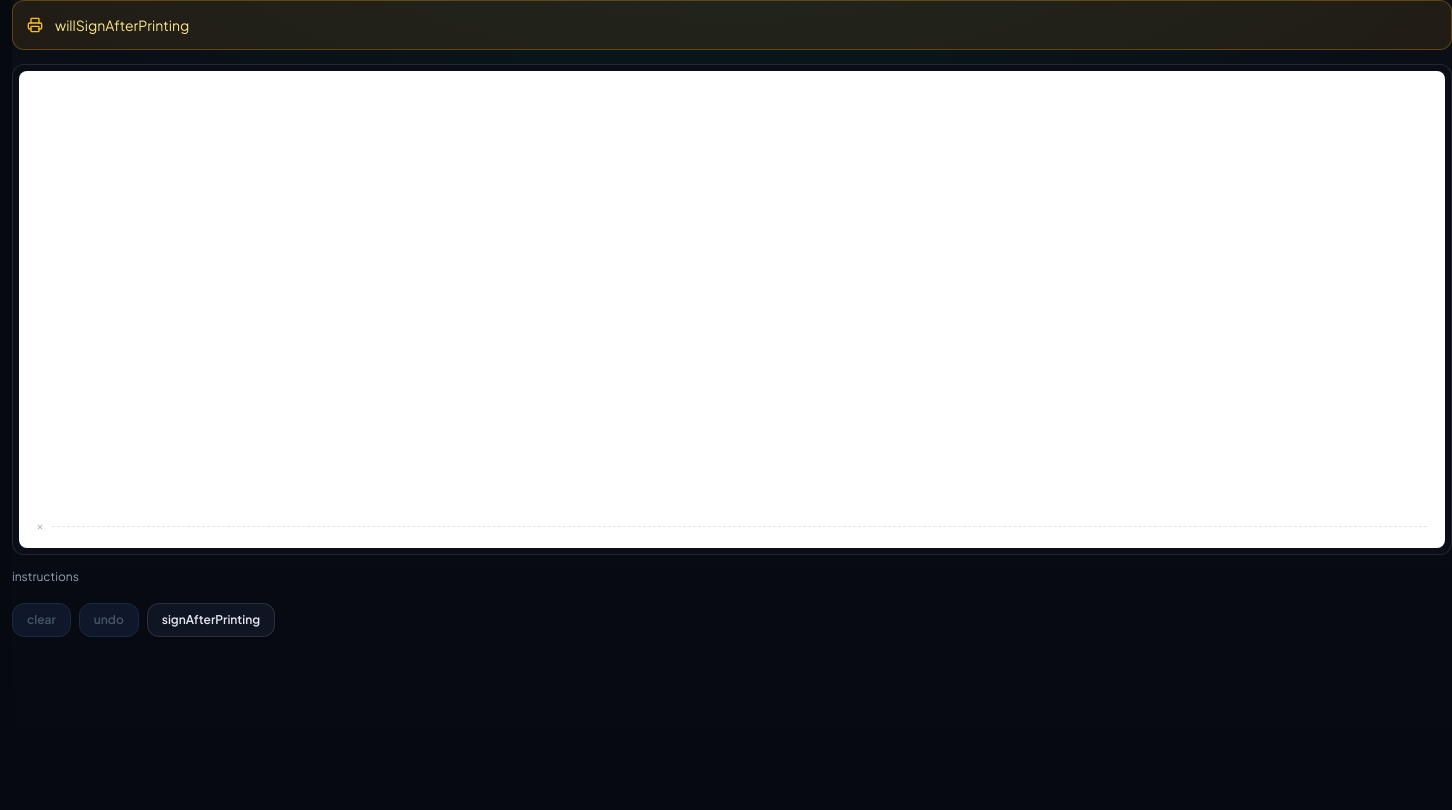
Scenario: SignaturePad › hides the manual-signing note once a signature is drawn
Press the mouse on the picture with test id "signature-canvas" at (732,309), box x1=19 y1=71 x2=1445 y2=548
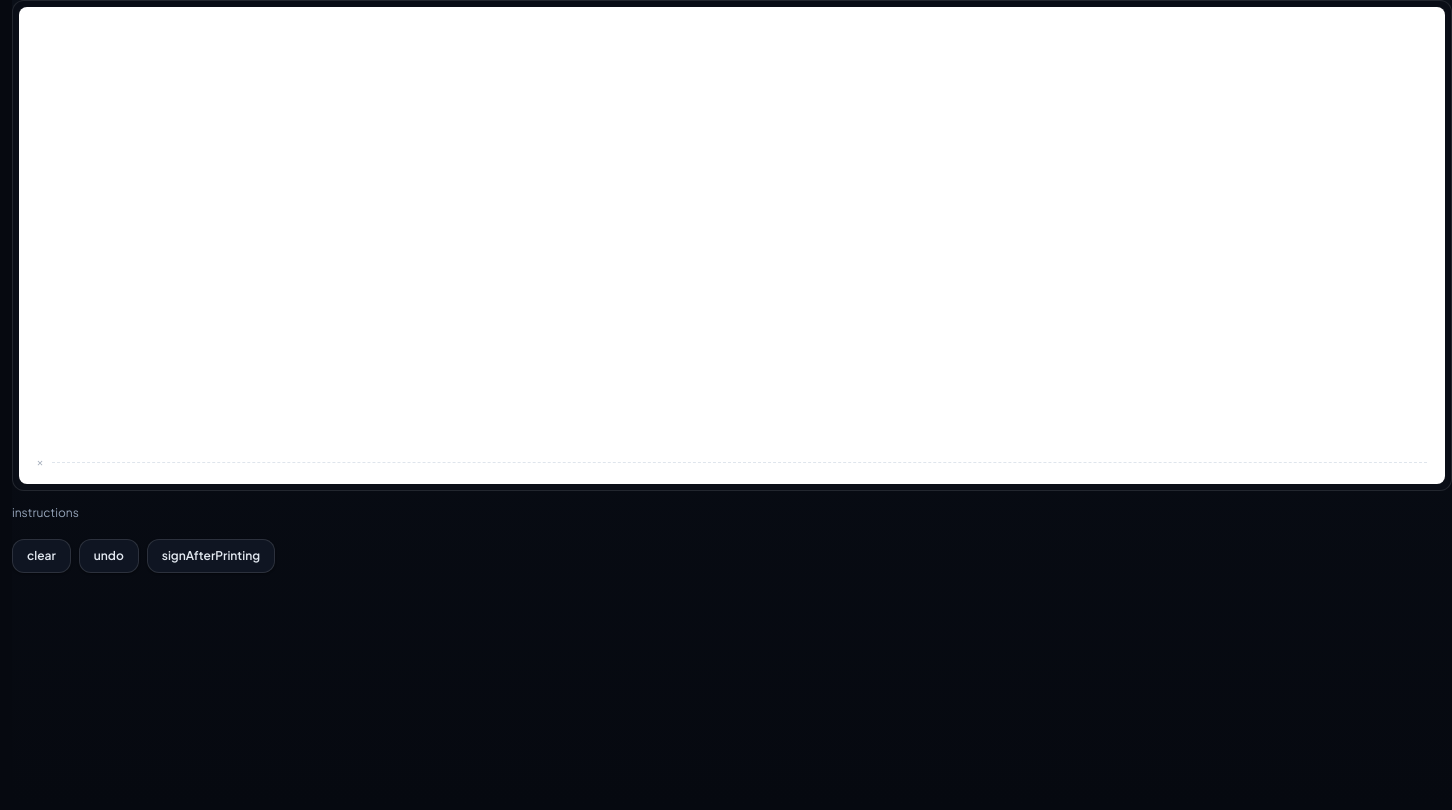
Expected: the element with test id "signature-pending-manual" is gone
